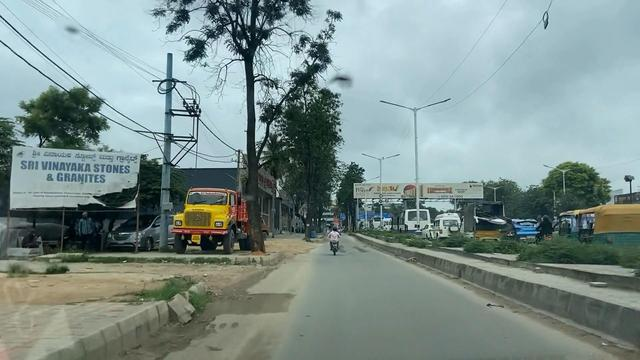RoadDamages: (206, 281, 307, 323)
